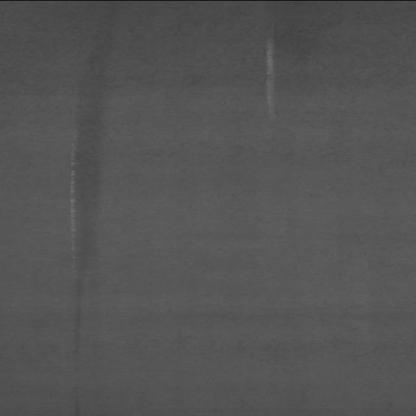crease: (51, 16, 122, 343)
